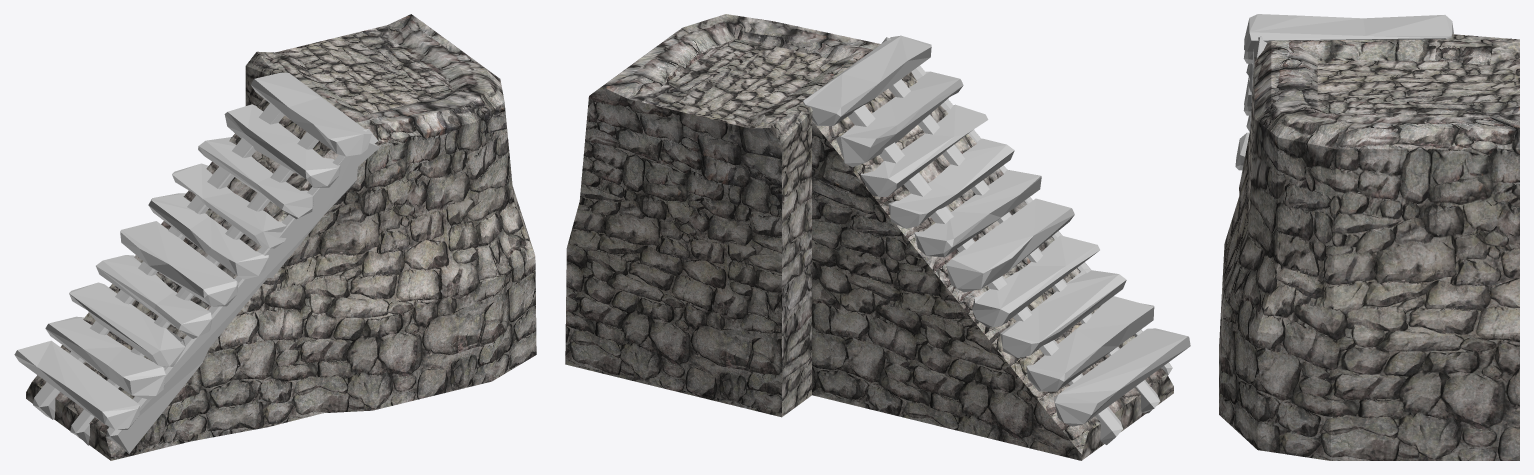
The model's file is StoneRamp_1_LOD2.fbx.
3 views of the same model, side by side, from view 1: azimuth 30°, elevation 25°; view 2: azimuth 150°, elevation 25°; view 3: azimuth 270°, elevation 25° (orthographic). The views are drawn at different scales.
Parts seen in each view (by area): view 1: Stone, Wood; view 2: Stone, Wood; view 3: Stone, Wood.
Part boxes in pixels (x1,y1,x2,y2): Stone: (26, 14, 536, 460); Wood: (14, 72, 379, 453); Stone: (565, 14, 1173, 460); Wood: (803, 35, 1190, 444); Stone: (1219, 34, 1519, 460); Wood: (1235, 14, 1453, 170).
Bounding box in the file's own units: 1013 × 484 × 570.
